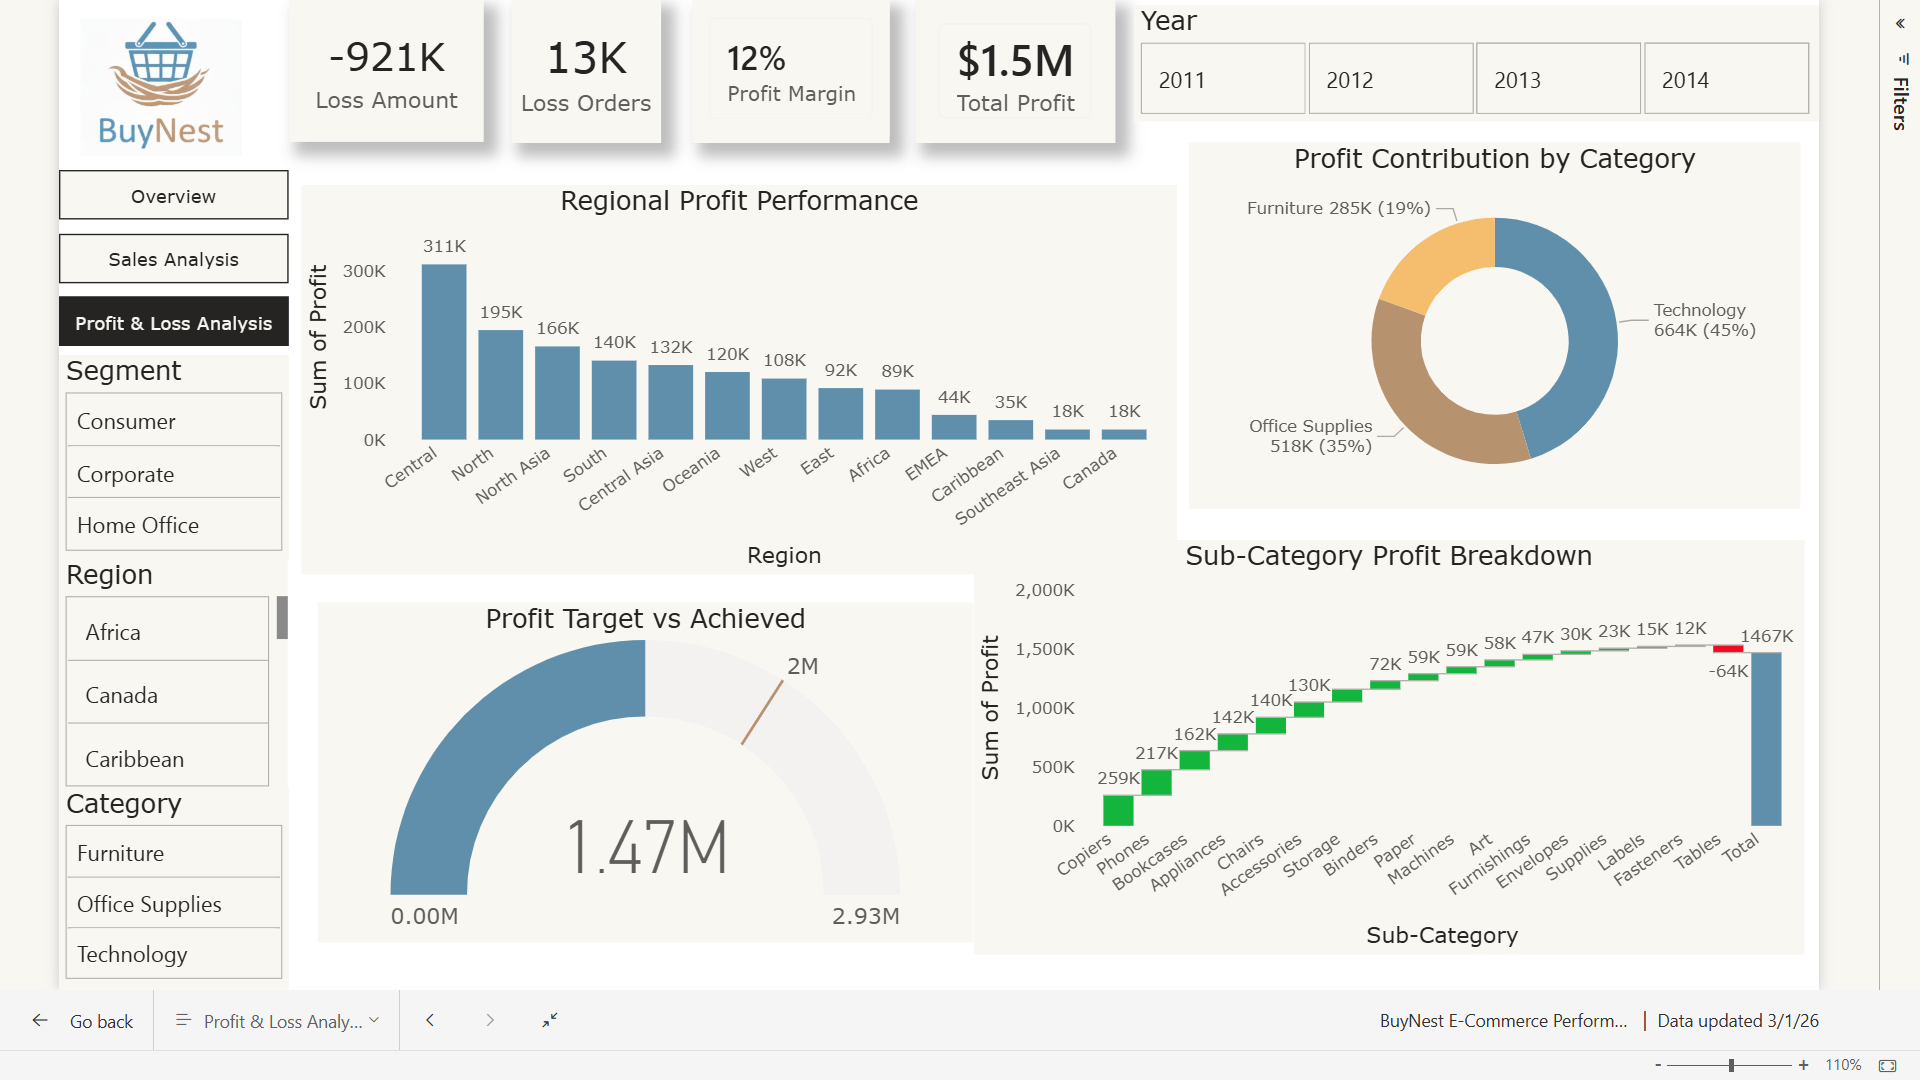

This screenshot's page, from the dashboard's own definition file:
{"tool":"powerbi","page":{"name":"Profit & Loss Analysis","canvas":[1280,720],"ordinal":2},"visuals":[{"type":"cardVisual","fields":{"Data":["BuyNest_E_Commerce.Total Profit"]},"box":[622.8,0,145.6,103.8],"z":0},{"type":"card","fields":{"Values":["BuyNest_E_Commerce.Loss Amount"]},"box":[167,0,141.8,103],"z":1000},{"type":"cardVisual","title":"Profit Margin","fields":{"Data":["BuyNest_E_Commerce.Profit Margin %"]},"box":[460.8,0,143,103.8],"z":2000},{"type":"card","fields":{"Values":["BuyNest_E_Commerce.Loss Orders"]},"box":[329.1,0,108.9,103.8],"z":3000},{"type":"donutChart","title":"Profit Contribution by Category","fields":{"Category":["BuyNest_E_Commerce.Category"],"Y":["Sum(BuyNest_E_Commerce.Profit)"]},"box":[822,103.9,445.1,266.6],"z":4000},{"type":"clusteredColumnChart","title":"Regional Profit Performance","fields":{"Category":["BuyNest_E_Commerce.Region"],"Y":["Sum(BuyNest_E_Commerce.Profit)"]},"box":[175.9,134.2,636.7,283.5],"z":5000},{"type":"waterfallChart","title":"Sub-Category Profit Breakdown","fields":{"Category":["BuyNest_E_Commerce.Sub-Category"],"Y":["Sum(BuyNest_E_Commerce.Profit)"]},"box":[665.8,392.4,603.8,301.3],"z":6000},{"type":"gauge","title":"Profit Target vs Achieved","fields":{"Y":["Sum(BuyNest_E_Commerce.Profit)"],"TargetValue":["BuyNest_E_Commerce.Profit Target"]},"box":[188.3,437.8,476.9,247],"z":7000},{"type":"advancedSlicerVisual","fields":{"Values":["BuyNest_E_Commerce.Region"]},"box":[0,406.6,166.5,166.5],"z":8000},{"type":"advancedSlicerVisual","fields":{"Values":["BuyNest_E_Commerce.Segment"]},"box":[0,258.2,167.1,148.1],"z":9000},{"type":"advancedSlicerVisual","fields":{"Values":["BuyNest_E_Commerce.Category"]},"box":[0,573.2,167.1,146.8],"z":10000},{"type":"pageNavigator","box":[0,124.1,167.1,130.4],"z":11000},{"type":"image","box":[8.9,13.9,130.4,100],"z":12000},{"type":"advancedSlicerVisual","fields":{"Values":["Date Table.Date.Variation.Date Hierarchy.Year"]},"box":[781.8,3.6,498.3,84.5],"z":13000}]}

Visuals, with their boxes on the page's 1280x720 design canvas (x1, y1, x2, y2). These are canvas units, not pixel positions in the 1920x1080 screenshot, which may show the page scaled, cropped or inside an application window:
cardVisual - BuyNest_E_Commerce.Total Profit: bbox=(623, 0, 768, 104)
card - BuyNest_E_Commerce.Loss Amount: bbox=(167, 0, 309, 103)
"Profit Margin" cardVisual: bbox=(461, 0, 604, 104)
card - BuyNest_E_Commerce.Loss Orders: bbox=(329, 0, 438, 104)
"Profit Contribution by Category" donutChart: bbox=(822, 104, 1267, 370)
"Regional Profit Performance" clusteredColumnChart: bbox=(176, 134, 813, 418)
"Sub-Category Profit Breakdown" waterfallChart: bbox=(666, 392, 1270, 694)
"Profit Target vs Achieved" gauge: bbox=(188, 438, 665, 685)
advancedSlicerVisual - BuyNest_E_Commerce.Region: bbox=(0, 407, 166, 573)
advancedSlicerVisual - BuyNest_E_Commerce.Segment: bbox=(0, 258, 167, 406)
advancedSlicerVisual - BuyNest_E_Commerce.Category: bbox=(0, 573, 167, 720)
pageNavigator: bbox=(0, 124, 167, 254)
image: bbox=(9, 14, 139, 114)
advancedSlicerVisual - Date Table.Date.Variation.Date Hierarchy.Year: bbox=(782, 4, 1280, 88)
